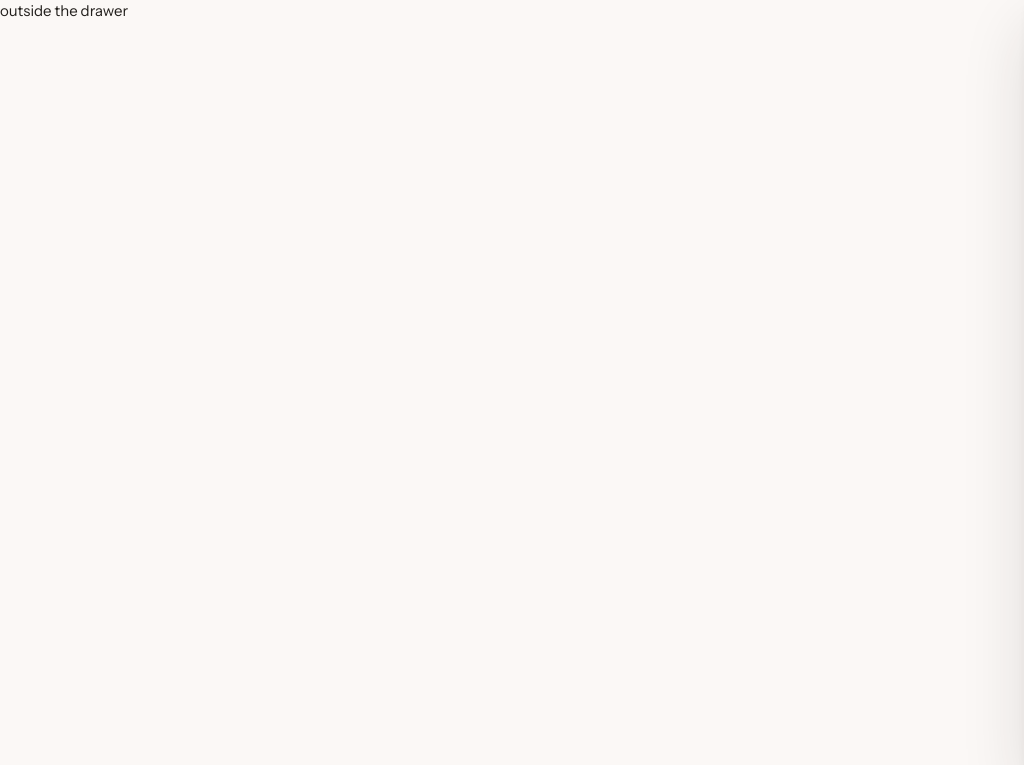
Scenario: DevDrawer › keeps coverage when the visible journal is cleared, because they are accumulated apart
Type keys "{Meta>}\\{/Meta}"
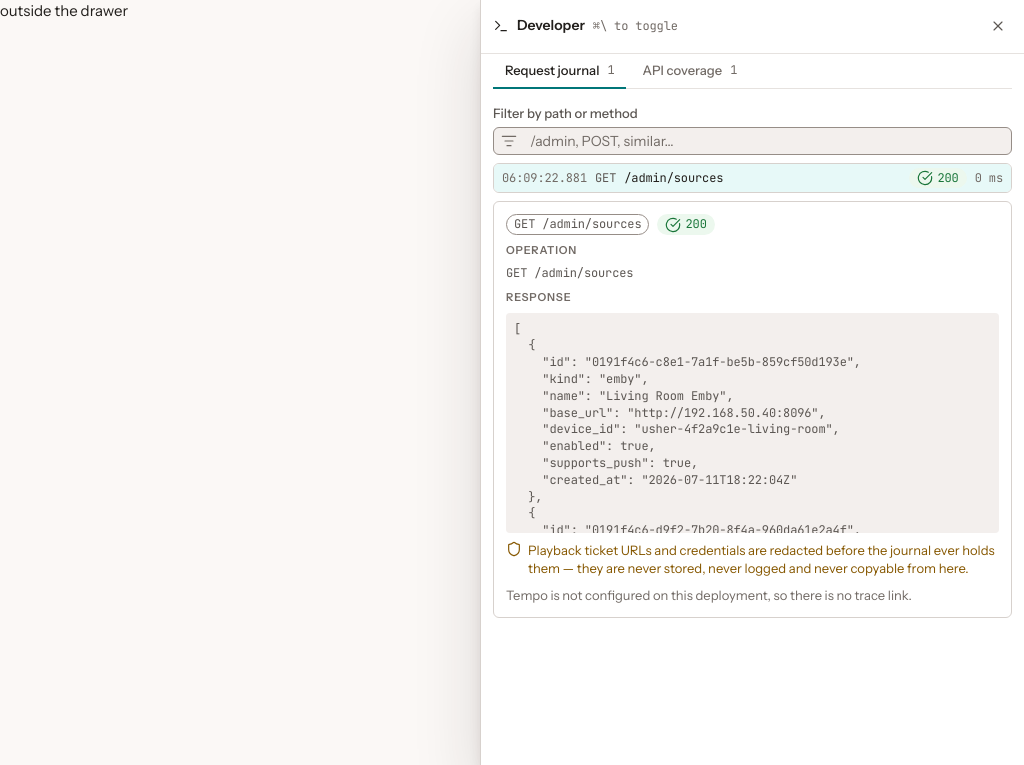
Click the tab "API coverage 1" at [690, 71], box [630,54,749,89]
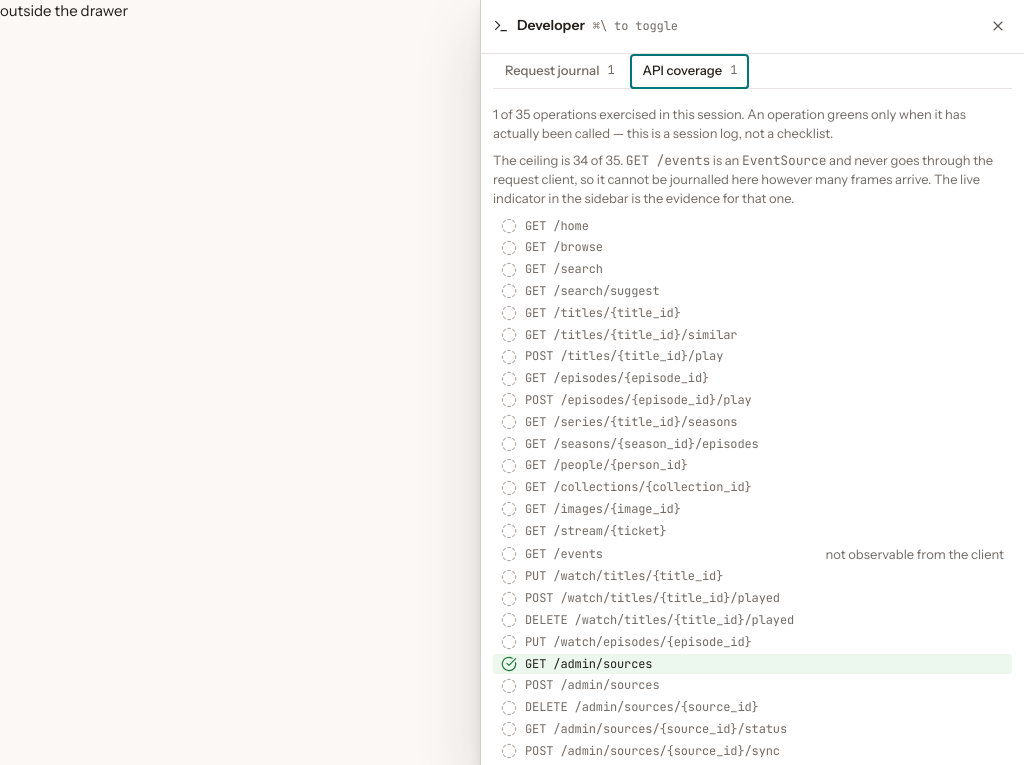
Result: the text "1 of 35 operations exercised in this session" is shown at [493,105,1012,143]
